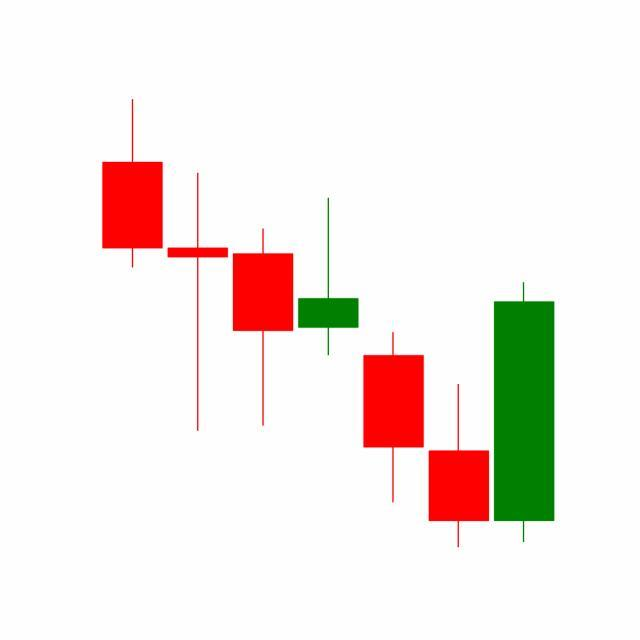Morning Star: (360, 279, 556, 549)
